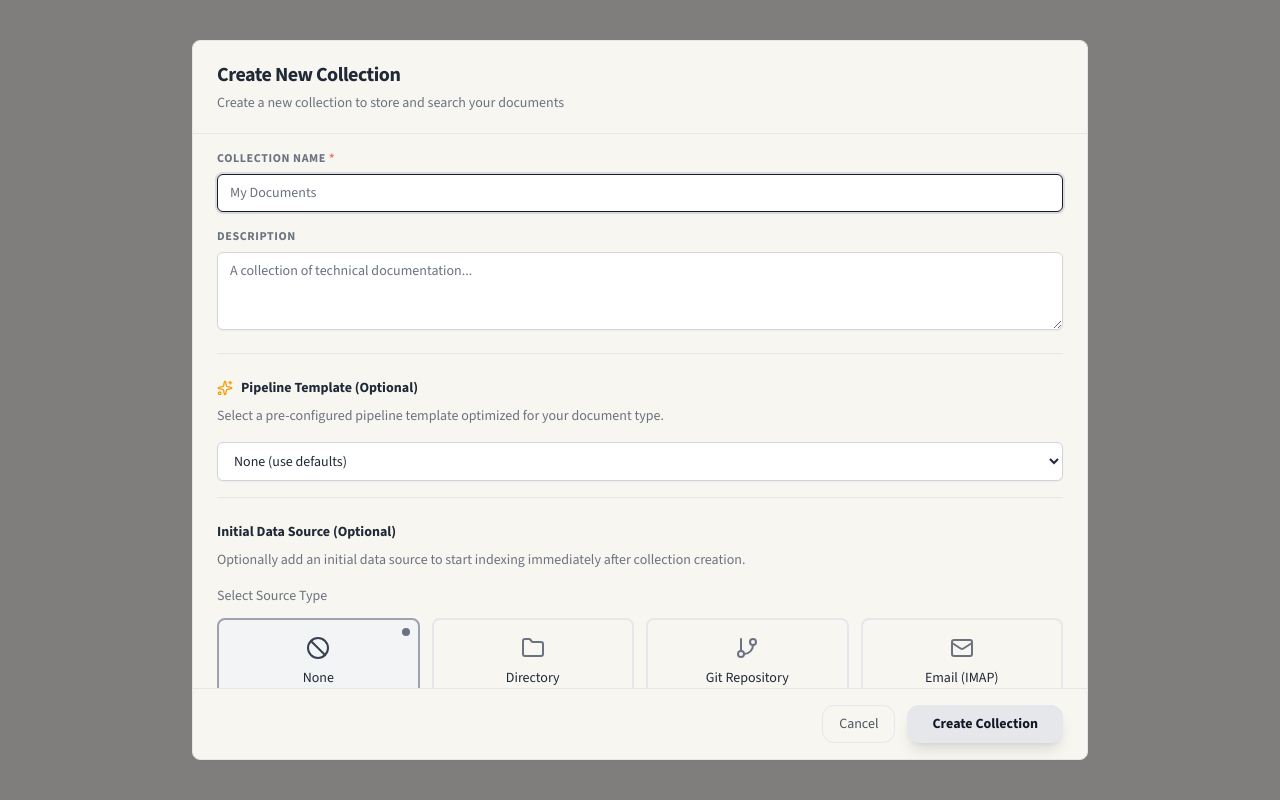
Test: QuickCreateModal › Initial Render › should have proper ARIA labels for accessibility
Select Directory connector to show the directory path field
Click the button "Directory Local files": [533, 672] box [432,618,634,726]
(page scrolled)
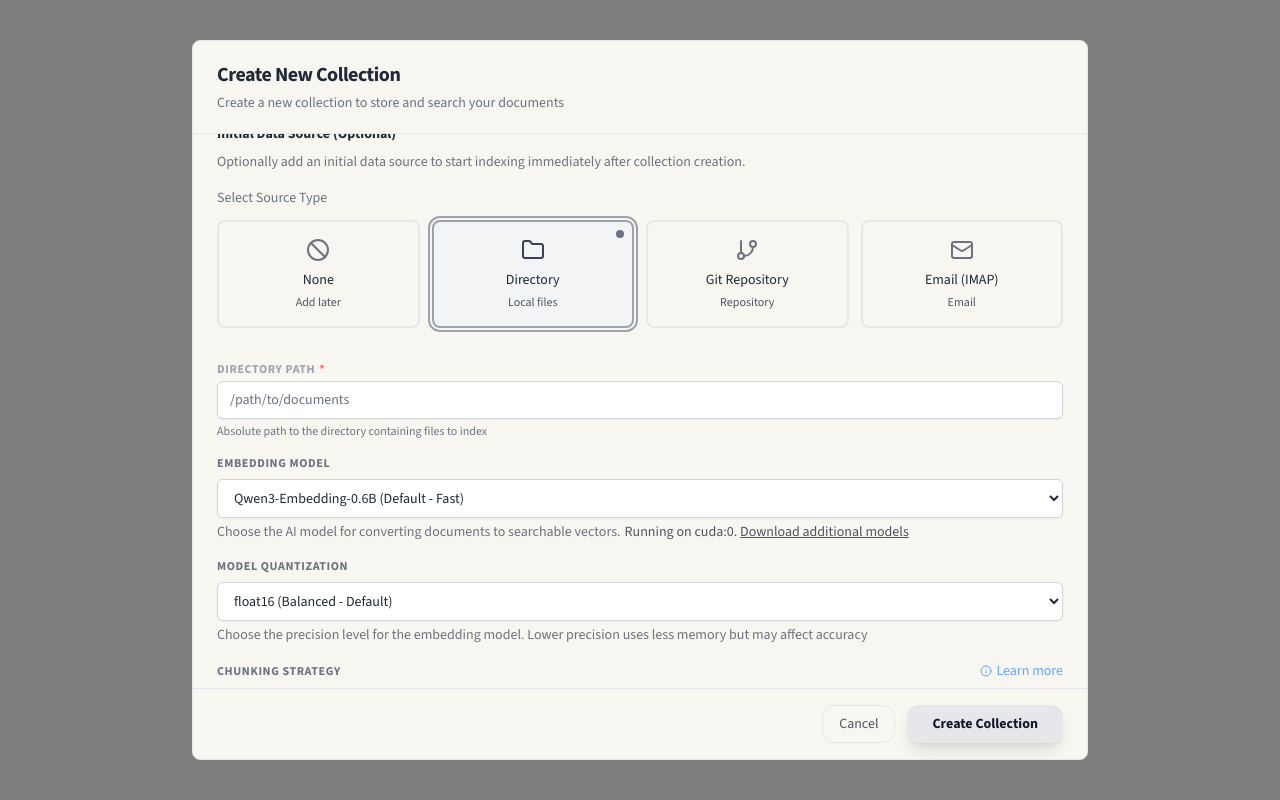
Now the field labelled "Directory Path*" is shown, box [217,381,1063,419]
